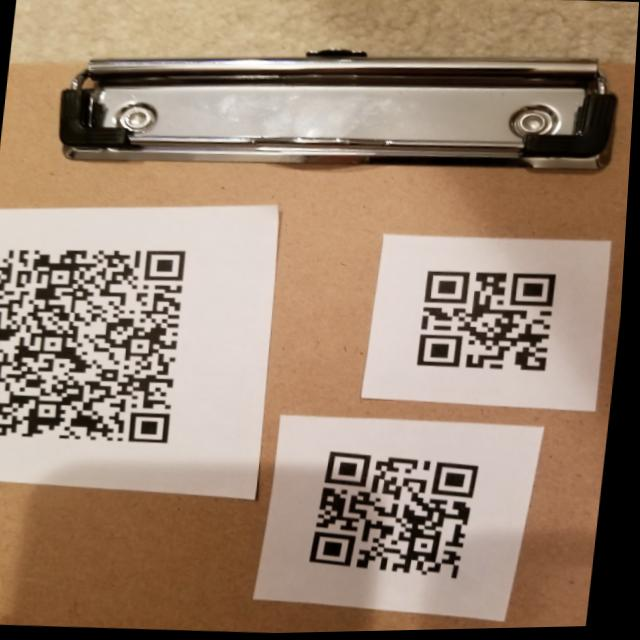QR_CODE: (0, 221, 208, 455), (301, 440, 493, 597), (402, 255, 575, 385)
